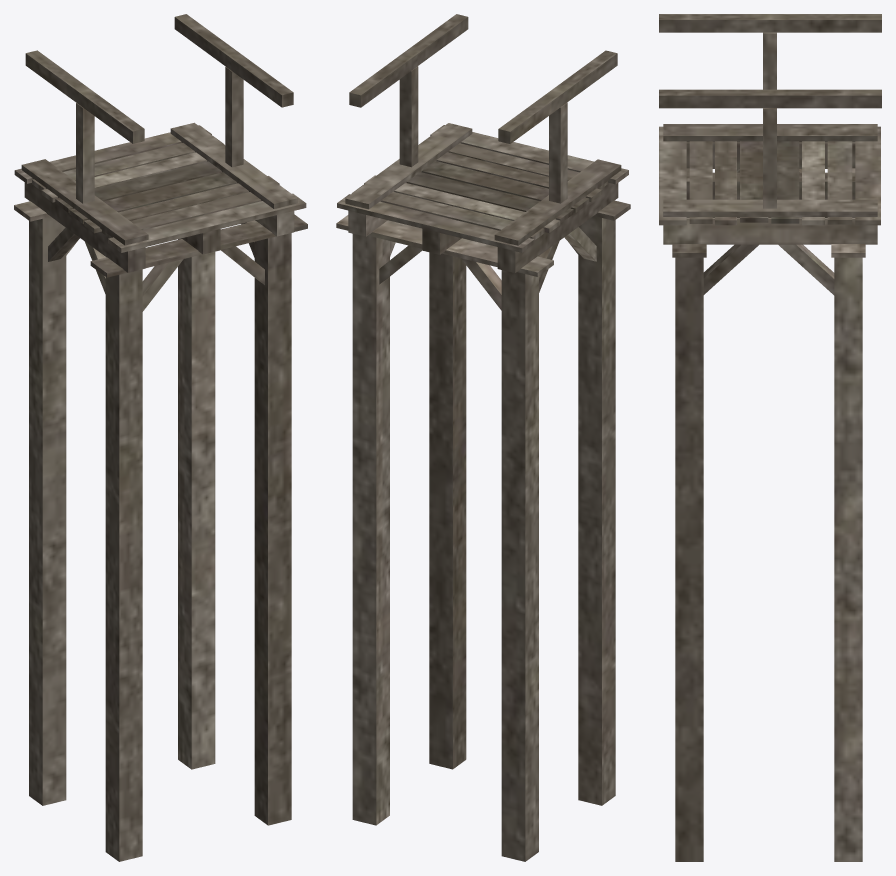
The model's file is bridge.glb.
The picture shows the model from 3 angles, left to right: view 1: azimuth 30°, elevation 25°; view 2: azimuth 150°, elevation 25°; view 3: azimuth 270°, elevation 25°; orthographic projection. The views are drawn at different scales.
Visible parts, largest first — view 1: Wooden_bridge-material; view 2: Wooden_bridge-material; view 3: Wooden_bridge-material.
Part boxes in pixels (x1=…): Wooden_bridge-material: x1=14, y1=14, x2=307, y2=861; Wooden_bridge-material: x1=336, y1=14, x2=630, y2=861; Wooden_bridge-material: x1=659, y1=14, x2=881, y2=861.
Bounding box in the file's own units: 1.26 × 4.41 × 1.17.
Materials: 1 (1 with a texture image).
